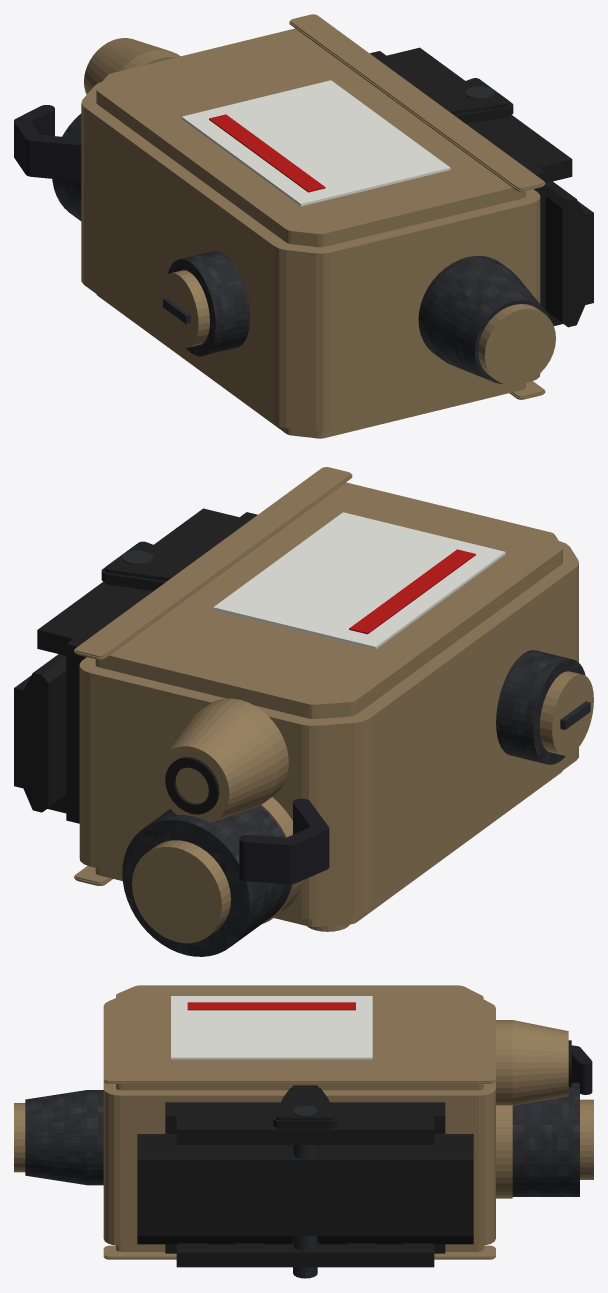
Rendered from modulo_laser.glb.
The picture shows the model from 3 angles, top to bottom: view 1: azimuth 30°, elevation 25°; view 2: azimuth 150°, elevation 25°; view 3: azimuth 270°, elevation 25°; orthographic projection. The views are drawn at different scales.
Parts seen in each view (by area): view 1: modulo_laser_chassi_tan, modulo_laser_plastico_branco, modulo_laser_aluminio_preto, modulo_laser_recartilhado, modulo_laser_borracha, modulo_laser_tinta_vermelha, modulo_laser_aco_oxidado; view 2: modulo_laser_chassi_tan, modulo_laser_aluminio_preto, modulo_laser_plastico_branco, modulo_laser_recartilhado, modulo_laser_borracha, modulo_laser_tinta_vermelha, modulo_laser_aco_oxidado; view 3: modulo_laser_chassi_tan, modulo_laser_aluminio_preto, modulo_laser_recartilhado, modulo_laser_plastico_branco, modulo_laser_tinta_vermelha, modulo_laser_aco_oxidado, modulo_laser_borracha.
Boxes of the visible parts, <box> form: modulo_laser_chassi_tan: <box>81,14,555,438</box>; modulo_laser_plastico_branco: <box>181,80,450,206</box>; modulo_laser_aluminio_preto: <box>370,47,593,327</box>; modulo_laser_recartilhado: <box>52,113,550,383</box>; modulo_laser_borracha: <box>14,105,81,181</box>; modulo_laser_tinta_vermelha: <box>209,114,325,192</box>; modulo_laser_aco_oxidado: <box>163,86,494,324</box>; modulo_laser_chassi_tan: <box>74,467,593,943</box>; modulo_laser_aluminio_preto: <box>14,508,257,823</box>; modulo_laser_plastico_branco: <box>213,512,505,649</box>; modulo_laser_recartilhado: <box>122,650,585,956</box>; modulo_laser_borracha: <box>239,798,329,884</box>; modulo_laser_tinta_vermelha: <box>349,549,475,634</box>; modulo_laser_aco_oxidado: <box>122,550,590,729</box>; modulo_laser_chassi_tan: <box>14,985,593,1259</box>; modulo_laser_aluminio_preto: <box>137,1040,571,1267</box>; modulo_laser_recartilhado: <box>25,1082,579,1196</box>; modulo_laser_plastico_branco: <box>171,996,372,1059</box>; modulo_laser_tinta_vermelha: <box>187,1002,355,1010</box>; modulo_laser_aco_oxidado: <box>293,1105,317,1278</box>; modulo_laser_borracha: <box>571,1045,592,1094</box>.
Size of the model in its own units: 0.0648 by 0.039 by 0.1035.
Materials: 8 (1 with a texture image).
